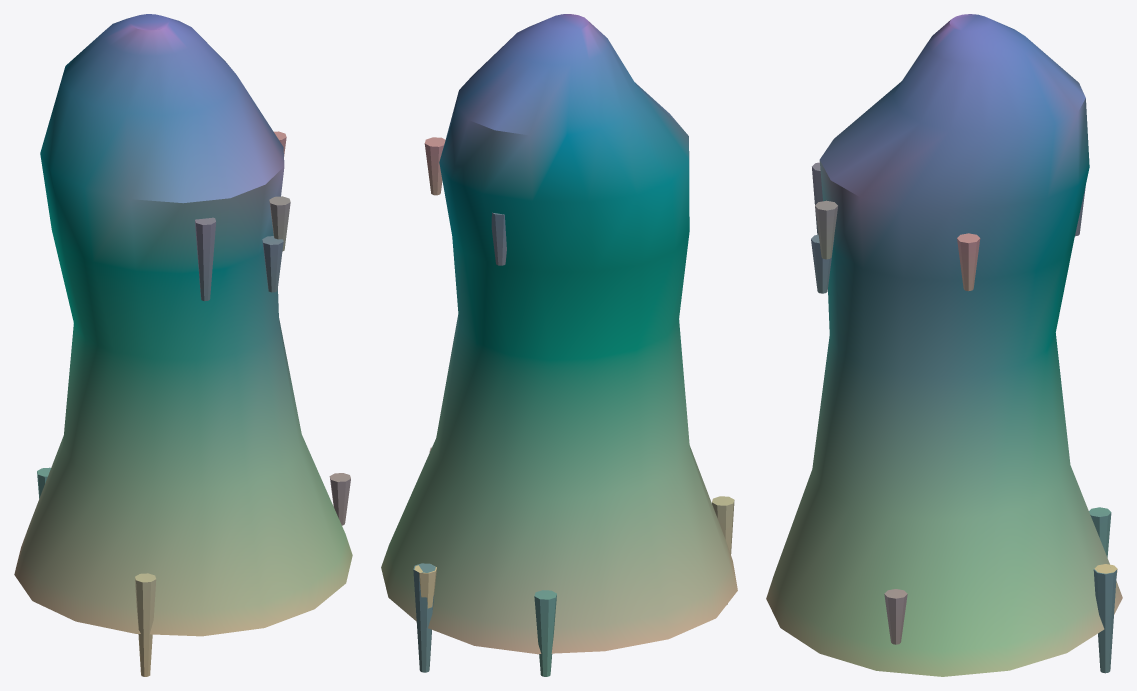
Rendered from char_penitent.glb.
The picture shows the model from 3 angles, left to right: view 1: azimuth 30°, elevation 25°; view 2: azimuth 150°, elevation 25°; view 3: azimuth 270°, elevation 25°; orthographic projection. The views are drawn at different scales.
Visible parts, largest first — view 1: penitent, drip.003, drip.009, drip, drip.005, drip.002; view 2: penitent, drip.006, drip.008, drip.004, drip.003, drip.007; view 3: penitent, drip.008, drip.005, drip.004, drip.002, drip, drip.006.
Part boxes in pixels (left/top/right/bottom): penitent: left=14, top=14, right=352, bottom=636; drip.003: left=135, top=573, right=156, bottom=676; drip.009: left=195, top=217, right=216, bottom=301; drip: left=262, top=236, right=283, bottom=292; drip.005: left=269, top=196, right=290, bottom=251; drip.002: left=329, top=473, right=350, bottom=525; penitent: left=381, top=14, right=737, bottom=654; drip.006: left=534, top=590, right=556, bottom=676; drip.008: left=413, top=563, right=435, bottom=672; drip.004: left=424, top=137, right=445, bottom=195; drip.003: left=712, top=496, right=734, bottom=604; drip.007: left=491, top=212, right=506, bottom=265; penitent: left=766, top=14, right=1122, bottom=676; drip.008: left=1093, top=569, right=1116, bottom=673; drip.005: left=815, top=200, right=837, bottom=259; drip.004: left=957, top=233, right=980, bottom=291; drip.002: left=884, top=589, right=907, bottom=644; drip: left=811, top=234, right=834, bottom=293; drip.006: left=1089, top=507, right=1111, bottom=557.
Size of the model in its own units: 0.8702 by 1.62 by 0.8553.
